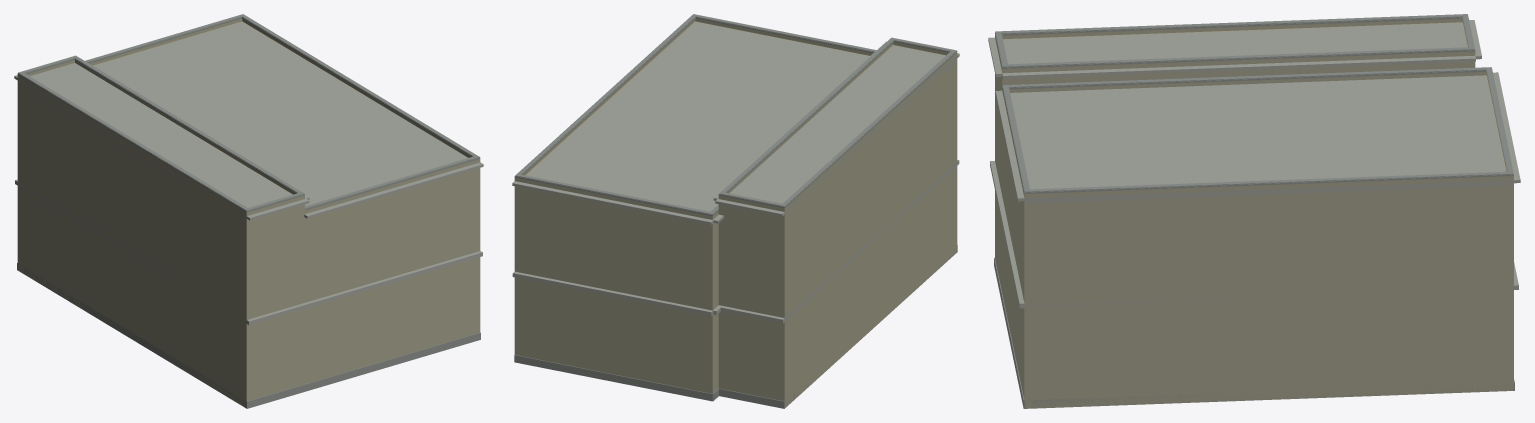
File: masa_1135370.glb
The picture shows the model from 3 angles, left to right: view 1: azimuth 30°, elevation 25°; view 2: azimuth 150°, elevation 25°; view 3: azimuth 270°, elevation 25°; orthographic projection. The views are drawn at different scales.
Visible parts, largest first — view 1: roof/main:0/roof_slab#0001, main:0/edge1/z0/main:0/edge1/z0/wall_0_0, tower:0/edge0/z0/tower:0/edge0/z0/wall_0_0/core0, tower:0/edge0/z0/tower:0/edge0/z0/wall_0_0/clip1, tower:0/edge1/z0/tower:0/edge1/z0/wall_0_0/clip0, roof/tower:0/roof_slab#0001, roof/tower:0/parapet_cap#0002, roof/main:0/parapet_cap#0002, roof/tower:0/parapet#0001, roof/main:0/parapet#0001, tower:0/edge0/z0/plinth#0001, main:0/edge1/z0/plinth#0001 (+8 smaller); view 2: roof/main:0/roof_slab#0001, main:0/edge3/z0/main:0/edge3/z0/wall_0_0/core0, tower:0/edge0/z0/tower:0/edge0/z0/wall_0_0/core0, tower:0/edge0/z0/tower:0/edge0/z0/wall_0_0/clip1, tower:0/edge3/z0/tower:0/edge3/z0/wall_0_0/core0, roof/tower:0/roof_slab#0001, roof/tower:0/parapet_cap#0002, roof/main:0/parapet_cap#0002, roof/main:0/parapet#0001, roof/tower:0/parapet#0001, main:0/edge0/z0/main:0/edge0/z0/wall_0_0, main:0/edge3/z0/plinth#0001 (+11 smaller); view 3: main:0/edge2/z0/main:0/edge2/z0/wall_0_0, roof/main:0/roof_slab#0001, roof/tower:0/roof_slab#0001, main:0/edge1/z0/main:0/edge1/z0/wall_0_0, roof/main:0/parapet_cap#0002, roof/main:0/parapet#0001, roof/tower:0/parapet#0001, roof/tower:0/parapet_cap#0002, tower:0/edge2/z0/tower:0/edge2/z0/wall_0_0, tower:0/edge2/z0/top_cornice#0001, roof/main:0/parapet_cap#0001, roof/tower:0/parapet_cap#0001 (+6 smaller).
Part boxes in pixels (box(x1,y1,x2,y2)): roof/main:0/roof_slab#0001: box(94, 22, 467, 218); main:0/edge1/z0/main:0/edge1/z0/wall_0_0: box(305, 168, 480, 384); tower:0/edge0/z0/tower:0/edge0/z0/wall_0_0/core0: box(17, 82, 159, 354); tower:0/edge0/z0/tower:0/edge0/z0/wall_0_0/clip1: box(159, 164, 247, 408); tower:0/edge1/z0/tower:0/edge1/z0/wall_0_0/clip0: box(246, 204, 304, 401); roof/tower:0/roof_slab#0001: box(30, 63, 292, 220); roof/tower:0/parapet_cap#0002: box(18, 55, 304, 210); roof/main:0/parapet_cap#0002: box(85, 14, 479, 208); roof/tower:0/parapet#0001: box(17, 60, 304, 215); roof/main:0/parapet#0001: box(90, 18, 480, 213); tower:0/edge0/z0/plinth#0001: box(18, 264, 246, 407); main:0/edge1/z0/plinth#0001: box(305, 332, 480, 391); roof/main:0/roof_slab#0001: box(527, 22, 868, 211); main:0/edge3/z0/main:0/edge3/z0/wall_0_0/core0: box(514, 187, 714, 393); tower:0/edge0/z0/tower:0/edge0/z0/wall_0_0/core0: box(779, 118, 891, 407); tower:0/edge0/z0/tower:0/edge0/z0/wall_0_0/clip1: box(891, 59, 957, 311); tower:0/edge3/z0/tower:0/edge3/z0/wall_0_0/core0: box(718, 205, 787, 406); roof/tower:0/roof_slab#0001: box(730, 45, 955, 203); roof/tower:0/parapet_cap#0002: box(719, 37, 956, 206); roof/main:0/parapet_cap#0002: box(515, 14, 876, 214); roof/main:0/parapet#0001: box(514, 18, 872, 219); roof/tower:0/parapet#0001: box(718, 42, 957, 211); main:0/edge0/z0/main:0/edge0/z0/wall_0_0: box(707, 223, 718, 393); main:0/edge3/z0/plinth#0001: box(514, 355, 712, 401); main:0/edge2/z0/main:0/edge2/z0/wall_0_0: box(1024, 180, 1513, 408); roof/main:0/roof_slab#0001: box(1010, 75, 1513, 203); roof/tower:0/roof_slab#0001: box(1002, 22, 1467, 78); main:0/edge1/z0/main:0/edge1/z0/wall_0_0: box(1002, 127, 1030, 408); roof/main:0/parapet_cap#0002: box(1003, 67, 1513, 192); roof/main:0/parapet#0001: box(1002, 72, 1513, 198); roof/tower:0/parapet#0001: box(995, 18, 1475, 73); roof/tower:0/parapet_cap#0002: box(995, 14, 1474, 67); tower:0/edge2/z0/tower:0/edge2/z0/wall_0_0: box(1009, 61, 1475, 84); tower:0/edge2/z0/top_cornice#0001: box(1002, 55, 1475, 78); roof/main:0/parapet_cap#0001: box(1002, 68, 1513, 193); roof/tower:0/parapet_cap#0001: box(995, 14, 1475, 68).
Size of the model in its own units: 11.45 by 7.81 by 16.03.
